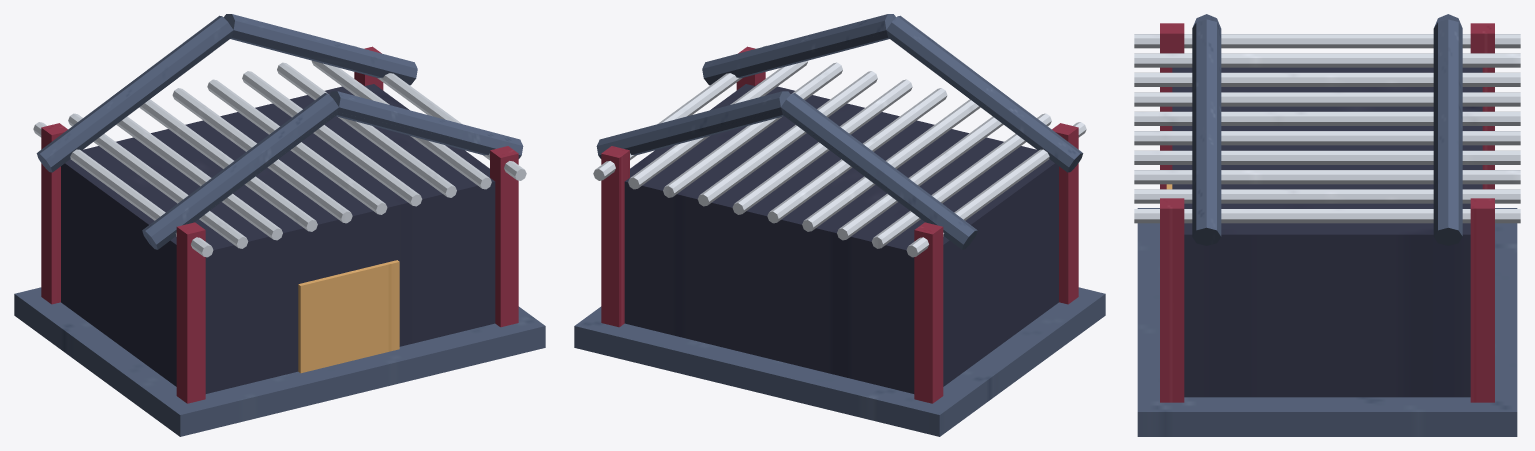
File: frost_shrine_hall_lod0.glb
3 views of the same model, side by side, from view 1: azimuth 30°, elevation 25°; view 2: azimuth 150°, elevation 25°; view 3: azimuth 270°, elevation 25° (orthographic). The views are drawn at different scales.
Parts seen in each view (by area): view 1: wood_0, stone_1, gold_20, stone_6, stone_8, vermillion_4, stone_7, stone_9, vermillion_5, vermillion_2, snow_16, snow_15 (+8 smaller); view 2: wood_0, stone_1, stone_8, stone_6, vermillion_2, stone_9, stone_7, vermillion_3, vermillion_4, snow_16, snow_15, snow_14 (+7 smaller); view 3: wood_0, stone_1, stone_7, stone_9, vermillion_3, vermillion_5, snow_11, snow_13, snow_12, snow_14, snow_15, snow_16 (+6 smaller).
Boxes of the visible parts, x1,y1,x2,y2 form: wood_0: (61, 82, 495, 393); stone_1: (14, 287, 545, 436); gold_20: (298, 260, 399, 373); stone_6: (36, 15, 233, 172); stone_8: (142, 93, 338, 249); vermillion_4: (176, 222, 205, 403); stone_7: (223, 14, 417, 85); stone_9: (329, 91, 523, 158); vermillion_5: (490, 146, 518, 327); vermillion_2: (41, 123, 67, 304); snow_16: (242, 71, 422, 206); snow_15: (207, 79, 387, 214); wood_0: (624, 82, 1058, 393); stone_1: (574, 287, 1105, 436); stone_8: (886, 15, 1083, 172); stone_6: (781, 93, 977, 249); vermillion_2: (914, 222, 943, 403); stone_9: (702, 14, 896, 85); stone_7: (596, 91, 790, 158); vermillion_3: (601, 146, 629, 327); vermillion_4: (1052, 123, 1078, 304); snow_16: (697, 71, 877, 206); snow_15: (732, 79, 912, 214); snow_14: (767, 88, 947, 223); wood_0: (1172, 67, 1482, 397); stone_1: (1137, 208, 1517, 436); stone_7: (1433, 19, 1462, 245); stone_9: (1192, 19, 1221, 245); vermillion_3: (1470, 198, 1494, 402); vermillion_5: (1160, 198, 1184, 402); snow_11: (1134, 53, 1520, 67); snow_13: (1134, 92, 1520, 106); snow_12: (1134, 72, 1520, 86); snow_14: (1134, 111, 1520, 125); snow_15: (1134, 131, 1520, 145); snow_16: (1134, 150, 1520, 164).
Size of the model in its own units: 14.37 by 10.18 by 11.2.
Materials: 5 (5 with a texture image).
